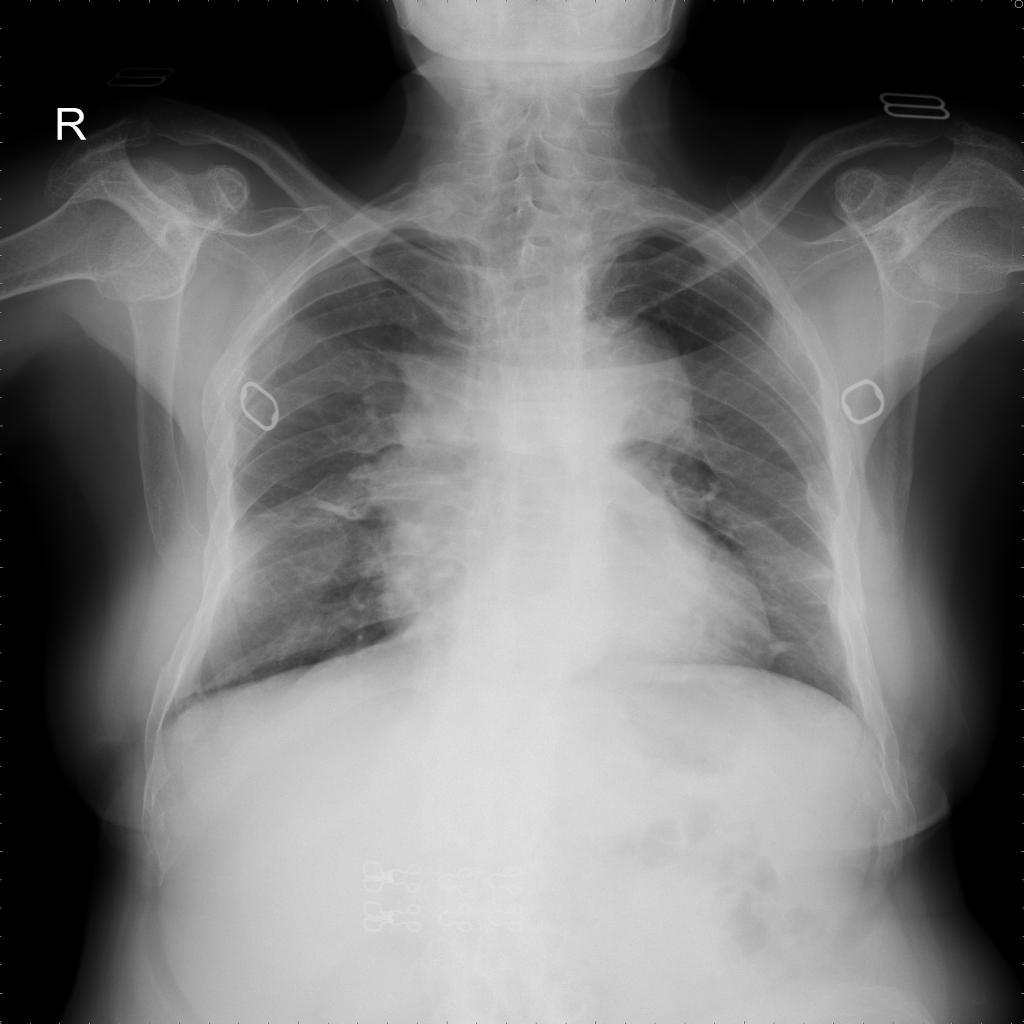Nodule: (284, 521, 347, 587)
